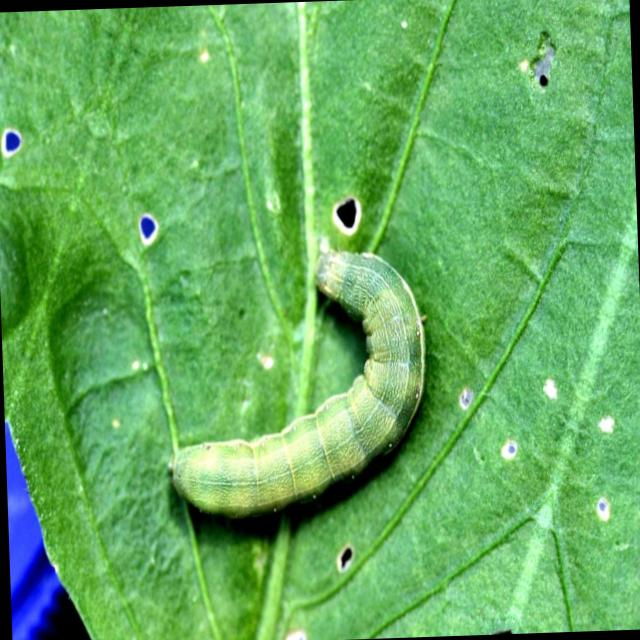Armyworm: (143, 236, 461, 551)
Armyworm_damage: (511, 20, 580, 95), (318, 527, 375, 604), (321, 189, 390, 251), (127, 208, 167, 257), (1, 107, 28, 166)
